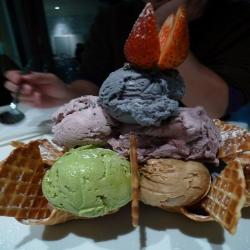icecream: (38, 145, 216, 225), (48, 93, 231, 167), (96, 58, 191, 133)
